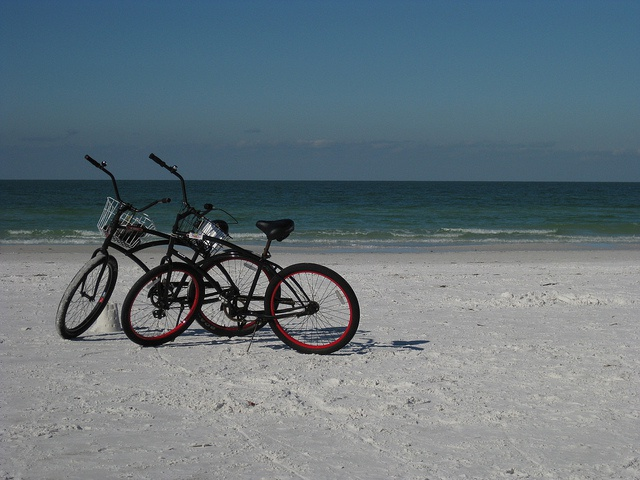non-vehicle: (119, 154, 360, 354), (55, 154, 265, 342)
